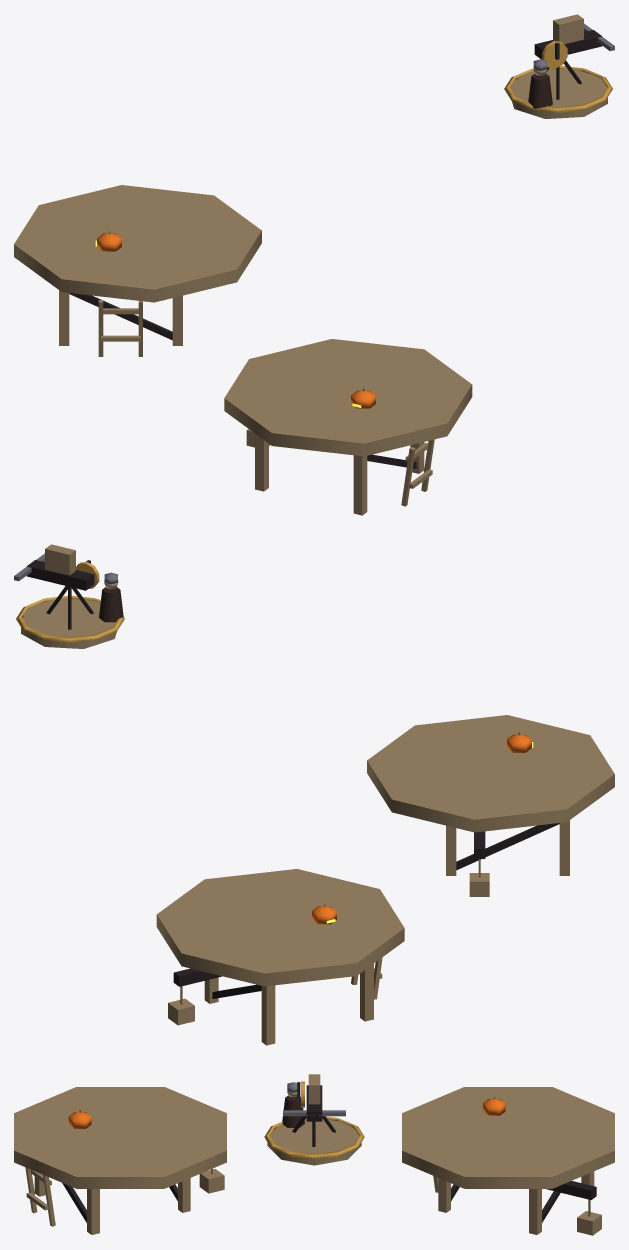
Rendered from base_builder_weapon_1.glb.
3 renders of one model, top to bottom at view 1: azimuth 30°, elevation 25°; view 2: azimuth 150°, elevation 25°; view 3: azimuth 270°, elevation 25°, orthographic. The views are drawn at different scales.
Parts seen in each view (by area): view 1: tower_slot_2_plate, tower_slot_1_plate, weapon_mount, weapon_mount_ring, tower_slot_2_leg_1, repeater_magazine, tower_slot_2_leg_0, engineer_body, tower_slot_1_brace_r, repeater_stock; view 2: tower_slot_1_plate, tower_slot_2_plate, weapon_mount, repeater_stock, weapon_mount_ring, tower_slot_1_leg_0, repeater_magazine, tower_slot_2_brace_l, engineer_body, tower_slot_1_leg_1; view 3: tower_slot_1_plate, tower_slot_2_plate, weapon_mount, weapon_mount_ring, tower_slot_1_leg_2, tower_slot_2_leg_3, tower_slot_1_hoist_arm, tower_slot_2_hoist_load, tower_slot_1_hoist_load, engineer_body, repeater_stock, tower_slot_1_leg_3 (+7 smaller).
Part boxes in pixels (x1=…): tower_slot_2_plate: x1=224, y1=339, x2=472, y2=456; tower_slot_1_plate: x1=14, y1=185, x2=261, y2=302; weapon_mount: x1=510, y1=68, x2=607, y2=118; weapon_mount_ring: x1=504, y1=65, x2=612, y2=112; tower_slot_2_leg_1: x1=353, y1=455, x2=367, y2=515; repeater_magazine: x1=553, y1=14, x2=583, y2=44; tower_slot_2_leg_0: x1=255, y1=434, x2=268, y2=491; engineer_body: x1=528, y1=73, x2=552, y2=108; tower_slot_1_brace_r: x1=69, y1=293, x2=172, y2=340; repeater_stock: x1=534, y1=30, x2=602, y2=59; tower_slot_1_plate: x1=156, y1=869, x2=404, y2=986; tower_slot_2_plate: x1=367, y1=715, x2=614, y2=832; weapon_mount: x1=21, y1=598, x2=116, y2=648; repeater_stock: x1=26, y1=560, x2=94, y2=590; weapon_mount_ring: x1=16, y1=595, x2=124, y2=642; tower_slot_1_leg_0: x1=261, y1=985, x2=275, y2=1045; repeater_magazine: x1=45, y1=544, x2=75, y2=575; tower_slot_2_brace_l: x1=456, y1=823, x2=559, y2=870; engineer_body: x1=99, y1=587, x2=123, y2=622; tower_slot_1_leg_1: x1=360, y1=964, x2=373, y2=1021; tower_slot_1_plate: x1=402, y1=1087, x2=614, y2=1188; tower_slot_2_plate: x1=14, y1=1087, x2=226, y2=1188; weapon_mount: x1=267, y1=1118, x2=361, y2=1165; weapon_mount_ring: x1=264, y1=1116, x2=364, y2=1158; tower_slot_1_leg_2: x1=529, y1=1189, x2=541, y2=1234; tower_slot_2_leg_3: x1=87, y1=1189, x2=99, y2=1234; tower_slot_1_hoist_arm: x1=546, y1=1181, x2=596, y2=1199; tower_slot_2_hoist_load: x1=199, y1=1169, x2=224, y2=1193; tower_slot_1_hoist_load: x1=577, y1=1211, x2=601, y2=1235; engineer_body: x1=282, y1=1095, x2=304, y2=1127; repeater_stock: x1=306, y1=1085, x2=322, y2=1121; tower_slot_1_leg_3: x1=438, y1=1178, x2=450, y2=1212.
Bounding box in the file's own units: 0.9403 × 0.578 × 1.15.
